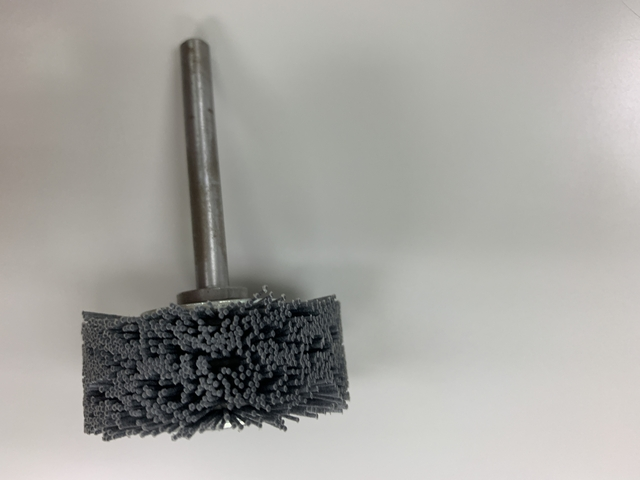Wheel Brush: (77, 34, 366, 438), (72, 163, 362, 450)
